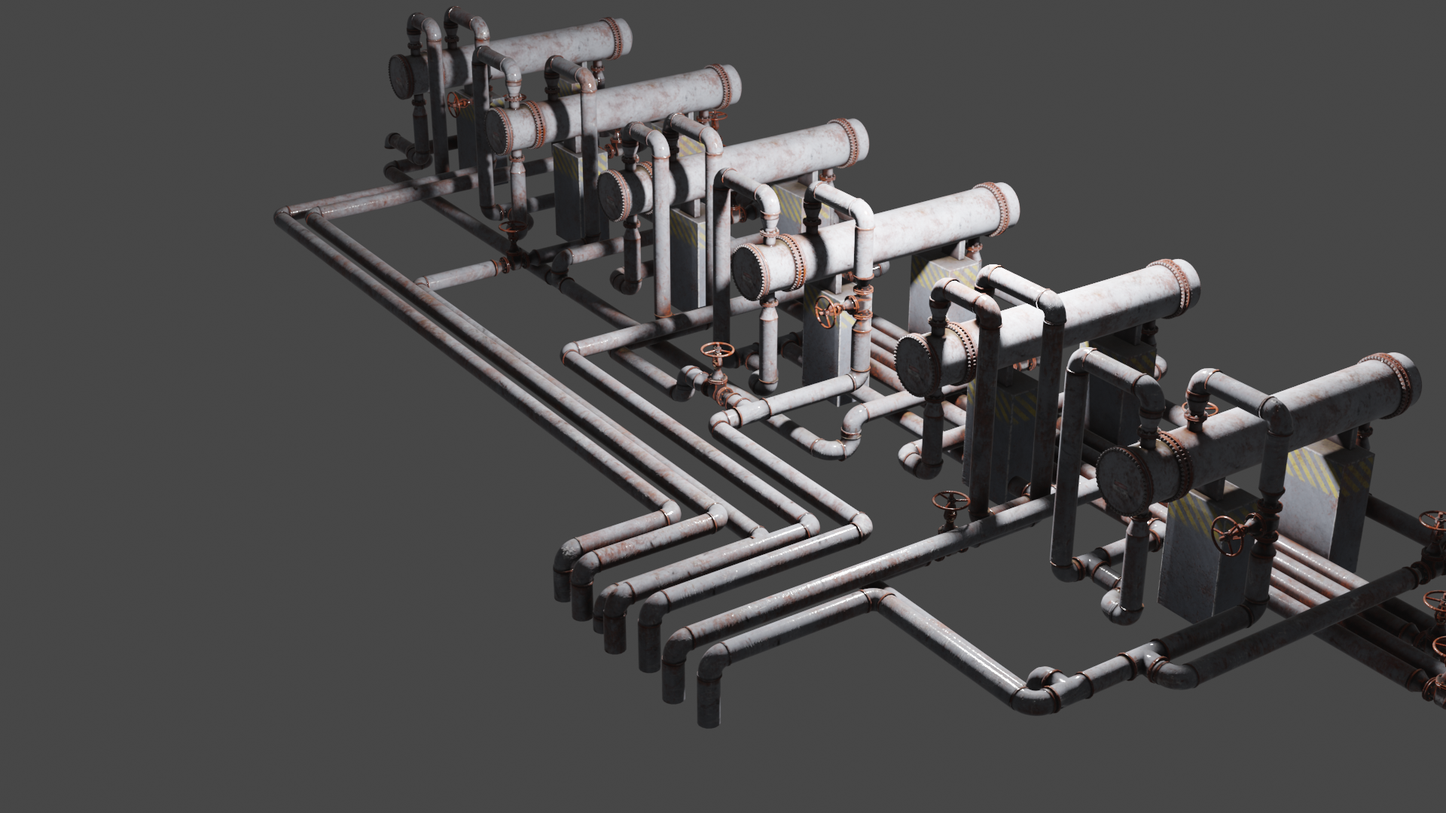HE_1: (387, 15, 634, 102)
HE_2: (482, 63, 743, 155)
HE_3: (599, 114, 871, 223)
HE_4: (729, 182, 1022, 297)
HE_5: (895, 252, 1203, 397)
HE_6: (1093, 345, 1425, 518)
